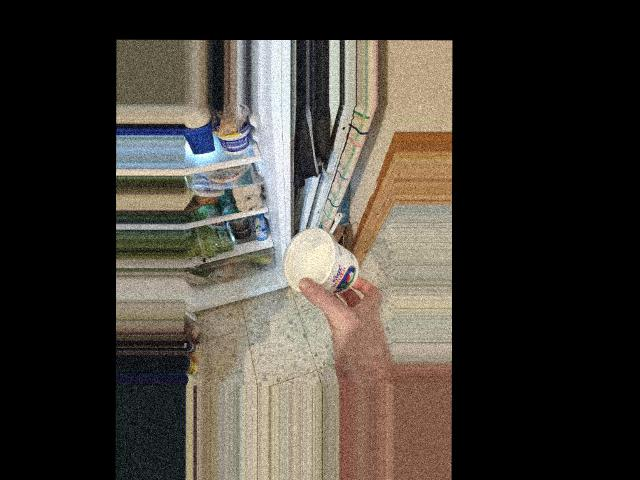cotage: (284, 225, 366, 303)
